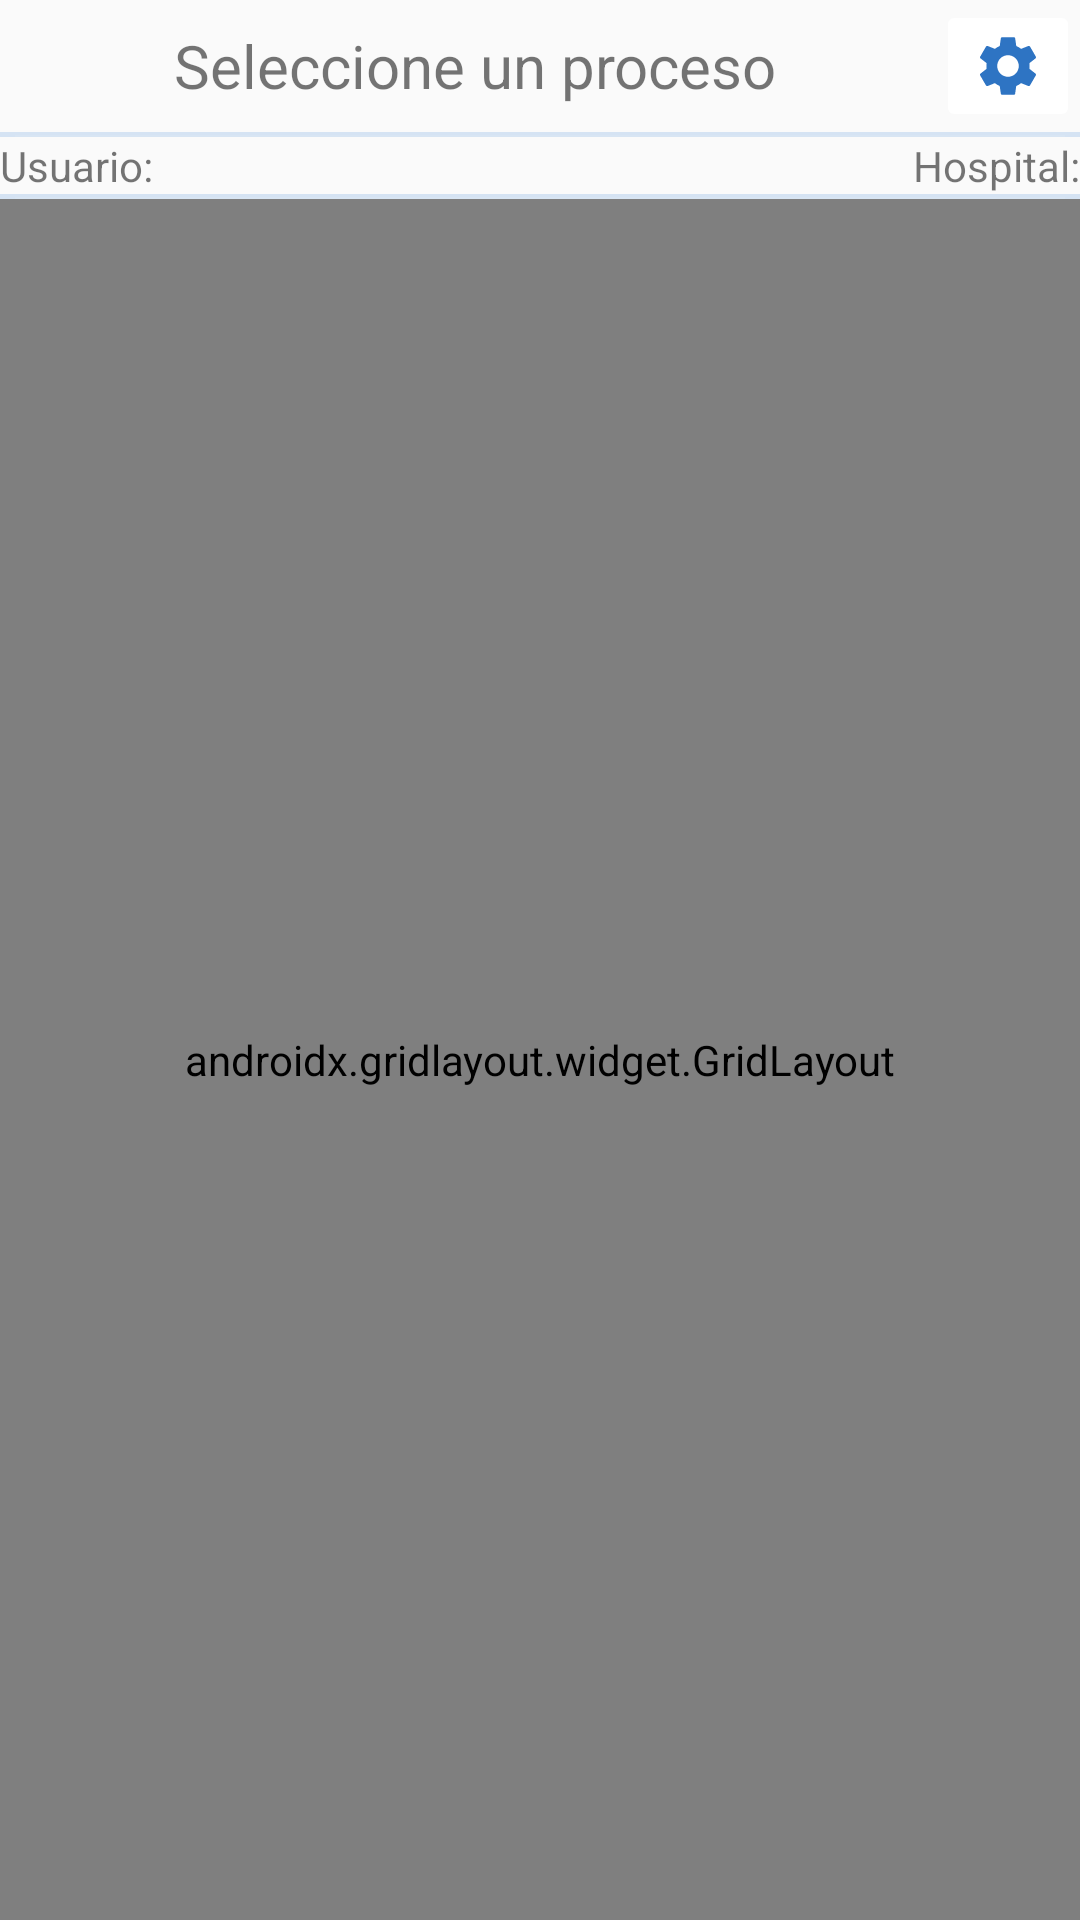

Where icons sit on this 1080px x 1920px app screen, as (x1, y1, x2, y2):
settings: (980, 37, 1036, 95)
